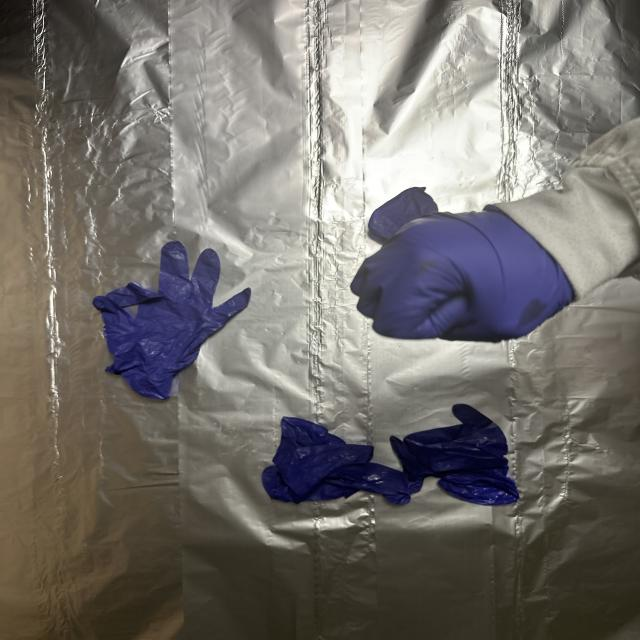gloves_contaminated: (351, 206, 573, 342)
